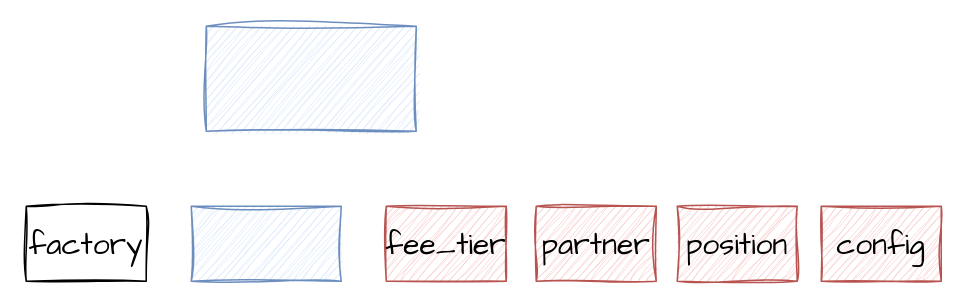
This 968x308 diagram has some shape labels left out. The shapes that lost their labels are listed below. From the top down, each one's box as (x1, y1, x2, y2) in pixels, then its label:
(205, 25, 416, 131): clmm_router
(190, 205, 341, 281): pool
